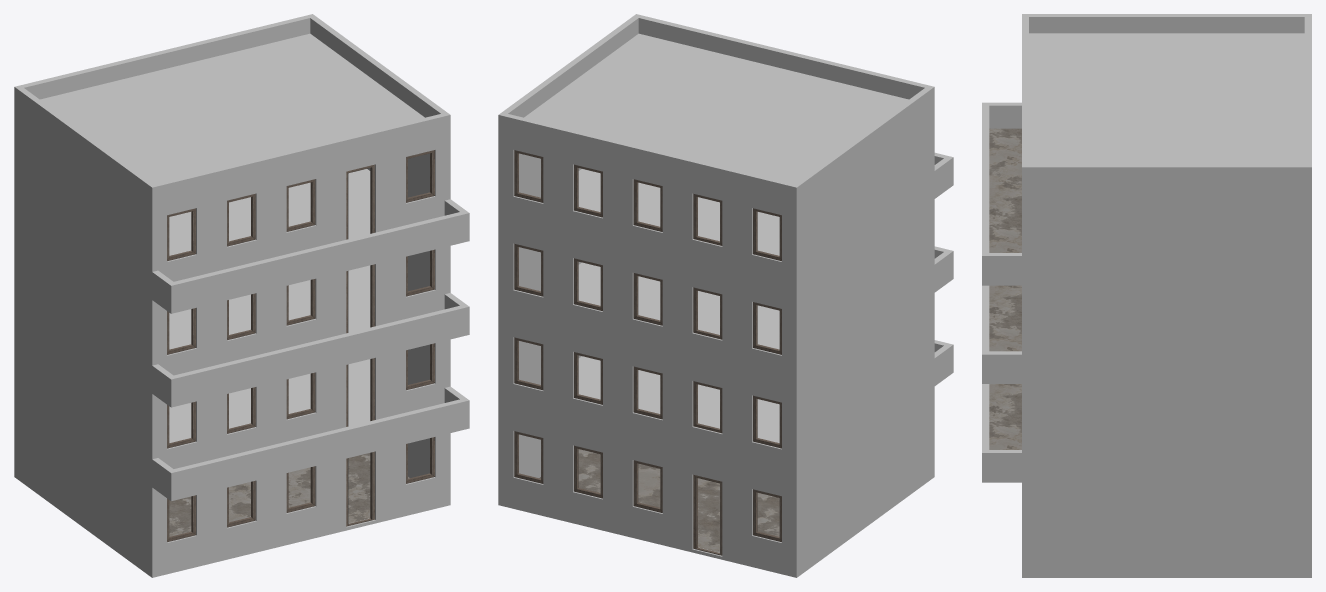
The model's file is Building_K_Intact.fbx.
3 renders of one model, left to right at view 1: azimuth 30°, elevation 25°; view 2: azimuth 150°, elevation 25°; view 3: azimuth 270°, elevation 25°, orthographic. The views are drawn at different scales.
Visible parts, largest first — view 1: Walls, Floors, Windows, Floor_Ground; view 2: Walls, Floors, Windows, Floor_Ground; view 3: Walls, Floors, Floors_Balcony.
Boxes of the visible parts, x1,y1,x2,y2 form: Walls: [14, 14, 469, 577]; Floors: [40, 33, 424, 442]; Windows: [167, 150, 434, 542]; Floor_Ground: [169, 453, 409, 536]; Walls: [498, 14, 953, 577]; Floors: [524, 33, 908, 442]; Windows: [514, 150, 781, 555]; Floor_Ground: [539, 449, 779, 552]; Walls: [982, 14, 1311, 577]; Floors: [1029, 33, 1304, 164]; Floors_Balcony: [989, 128, 1021, 449].
Size of the model in its own units: 1000 by 1250 by 910.
